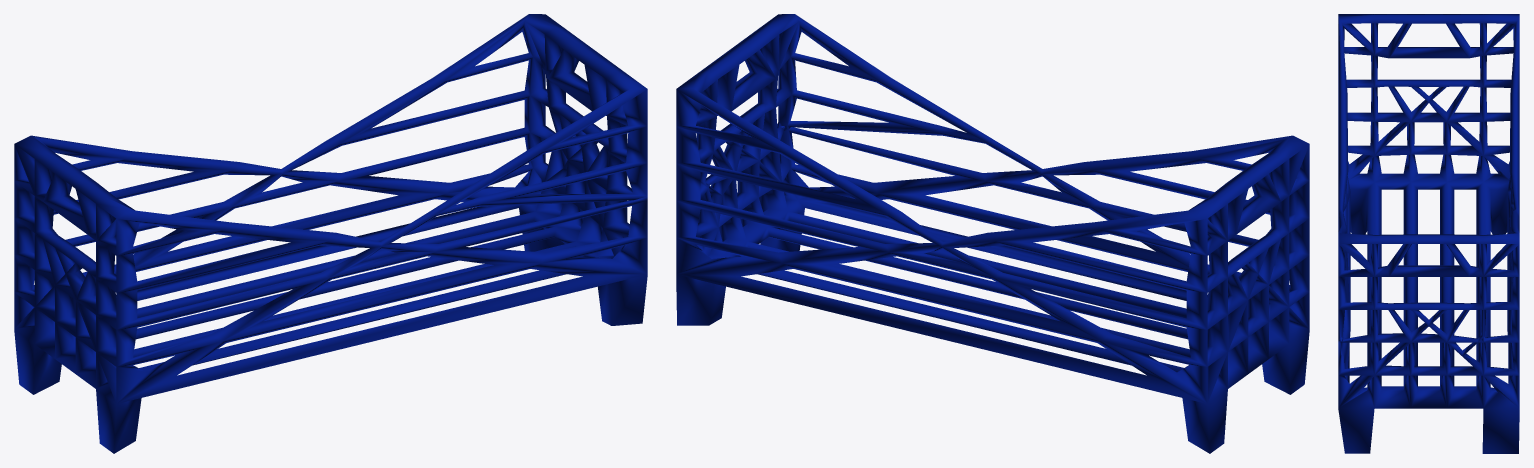
Rendered from cajon.fbx.
3 views of the same model, side by side, from view 1: azimuth 30°, elevation 25°; view 2: azimuth 150°, elevation 25°; view 3: azimuth 270°, elevation 25° (orthographic). The views are drawn at different scales.
Visible parts, largest first — view 1: Cube.001; view 2: Cube.001; view 3: Cube.001.
Part boxes in pixels (x1,y1,x2,y2): Cube.001: (14,14,647,453); Cube.001: (676,14,1309,453); Cube.001: (1338,14,1519,453).
Size of the model in its own units: 0.6 by 0.2619 by 0.2.
